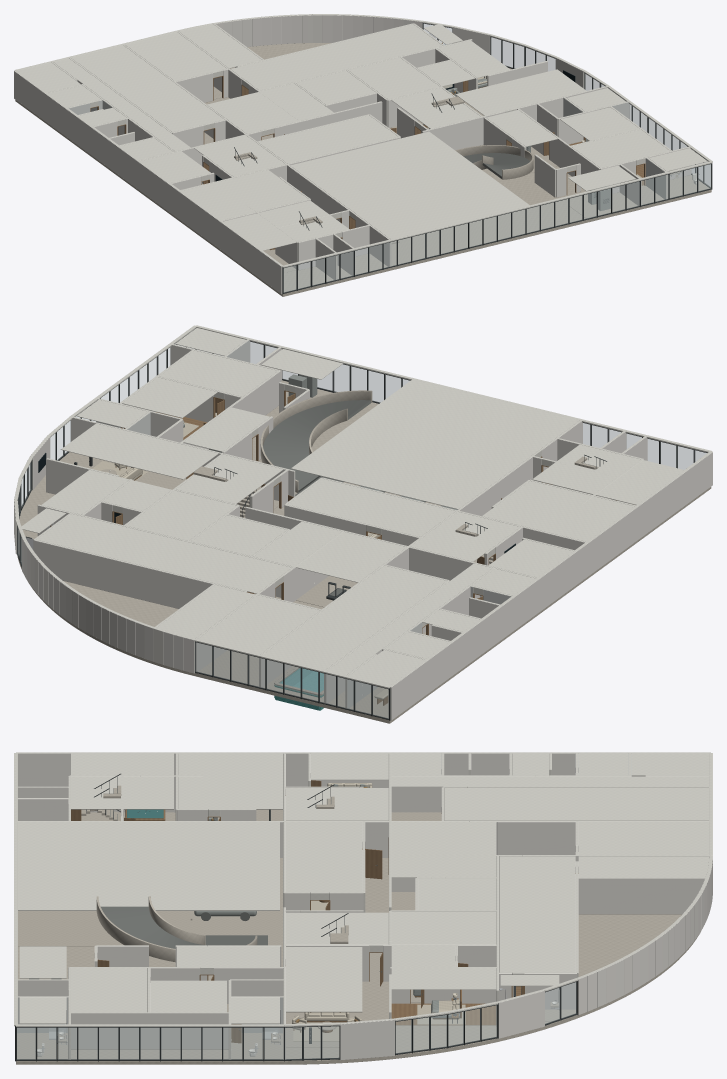
3 views of the same model, one above another, from view 1: azimuth 30°, elevation 25°; view 2: azimuth 150°, elevation 25°; view 3: azimuth 270°, elevation 25° (orthographic). The views are drawn at different scales.
Parts seen in each view (by area): view 1: B1__Ceilings, B1__Details, B1__Structure, B1__Windows, B1__BakedFloors, B1__Furniture; view 2: B1__Ceilings, B1__Details, B1__Structure, B1__Windows, B1__BakedFloors, B1__Furniture, B1__Pools; view 3: B1__Ceilings, B1__Details, B1__Structure, B1__Windows, B1__BakedFloors, B1__Furniture.
Boxes of the visible parts, bbox=[...] form: B1__Ceilings: bbox=[17, 24, 707, 250]; B1__Details: bbox=[14, 15, 712, 293]; B1__Structure: bbox=[15, 23, 711, 296]; B1__Windows: bbox=[14, 14, 712, 294]; B1__BakedFloors: bbox=[204, 67, 707, 272]; B1__Furniture: bbox=[215, 33, 699, 243]; B1__Ceilings: bbox=[21, 328, 683, 685]; B1__Details: bbox=[14, 340, 712, 720]; B1__Structure: bbox=[17, 339, 711, 723]; B1__Windows: bbox=[14, 325, 712, 720]; B1__BakedFloors: bbox=[19, 382, 635, 717]; B1__Furniture: bbox=[25, 374, 515, 705]; B1__Pools: bbox=[274, 667, 323, 710]; B1__Ceilings: bbox=[18, 753, 709, 1023]; B1__Details: bbox=[15, 754, 712, 1060]; B1__Structure: bbox=[16, 753, 710, 1064]; B1__Windows: bbox=[14, 752, 712, 1061]; B1__BakedFloors: bbox=[18, 809, 559, 1059]; B1__Furniture: bbox=[29, 783, 559, 1056].
Size of the model in its own units: 46.95 by 5.29 by 50.69.
32 materials, 8 textured.
